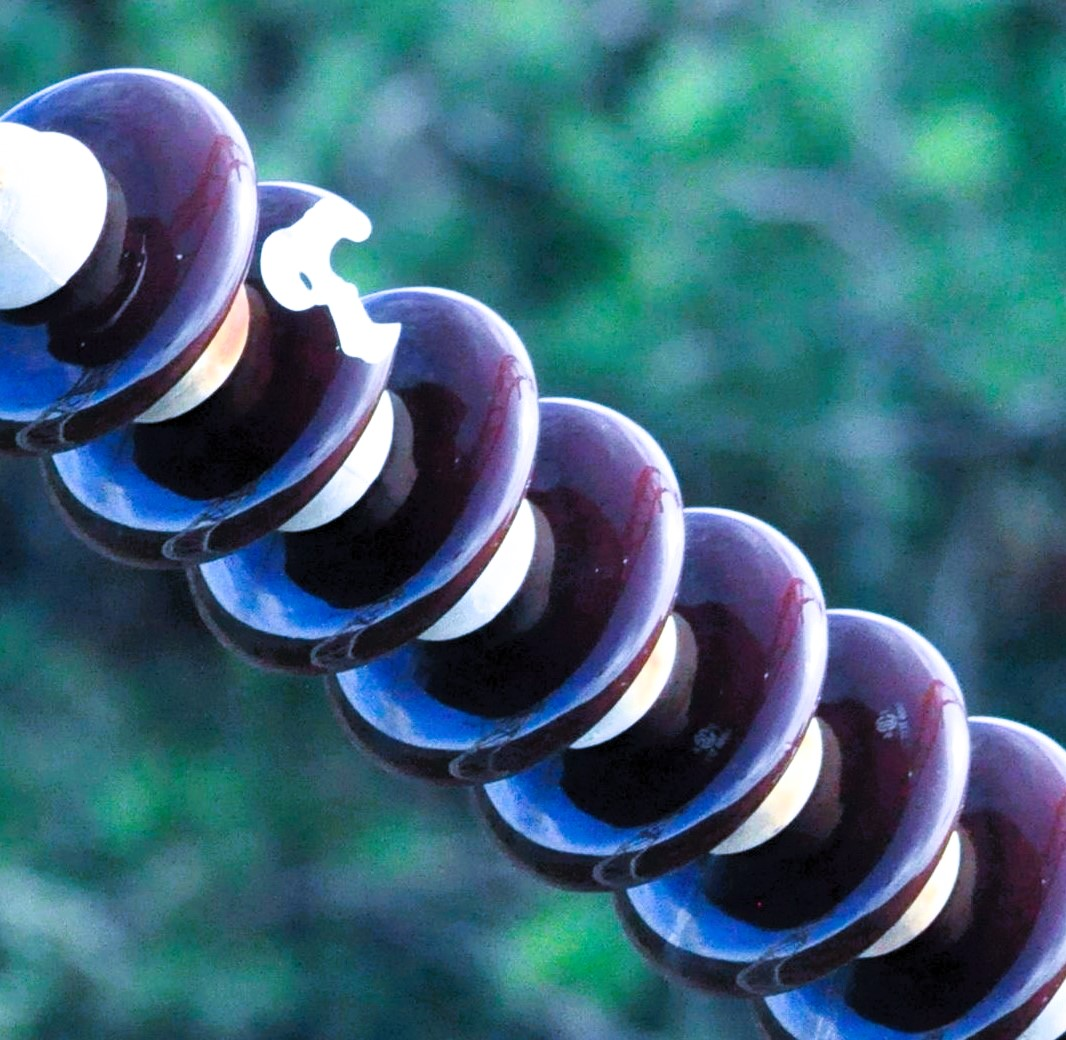insulator breakage: (117, 141, 422, 547)
